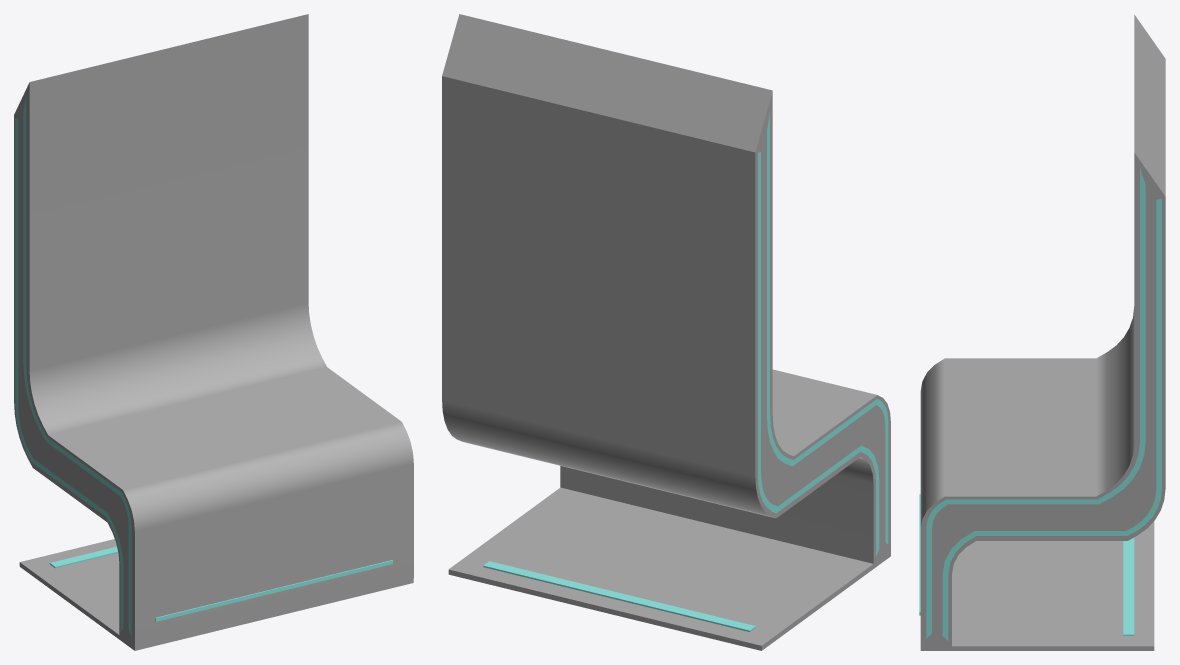
Rendered from chair.fbx.
3 renders of one model, left to right at view 1: azimuth 30°, elevation 25°; view 2: azimuth 150°, elevation 25°; view 3: azimuth 270°, elevation 25°, orthographic. The views are drawn at different scales.
Visible parts, largest first — view 1: pCube22, pCube27, pCube25, pCube26; view 2: pCube22, pCube27, pCube25, pCube28; view 3: pCube22, pCube27, pCube23, pCube28.
Boxes of the visible parts, box(x1,y1,x2,y2) form: pCube22: box(14, 14, 413, 646); pCube27: box(19, 539, 413, 650); pCube25: box(15, 96, 131, 636); pCube26: box(155, 560, 392, 621); pCube22: box(442, 14, 890, 563); pCube27: box(448, 487, 890, 650); pCube25: box(758, 112, 888, 556); pCube28: box(483, 561, 755, 631); pCube22: box(920, 14, 1165, 646); pCube27: box(920, 521, 1154, 650); pCube23: box(926, 168, 1161, 640); pCube28: box(1123, 537, 1134, 635).
Size of the model in its own units: 0.575 by 0.9666 by 0.432.
